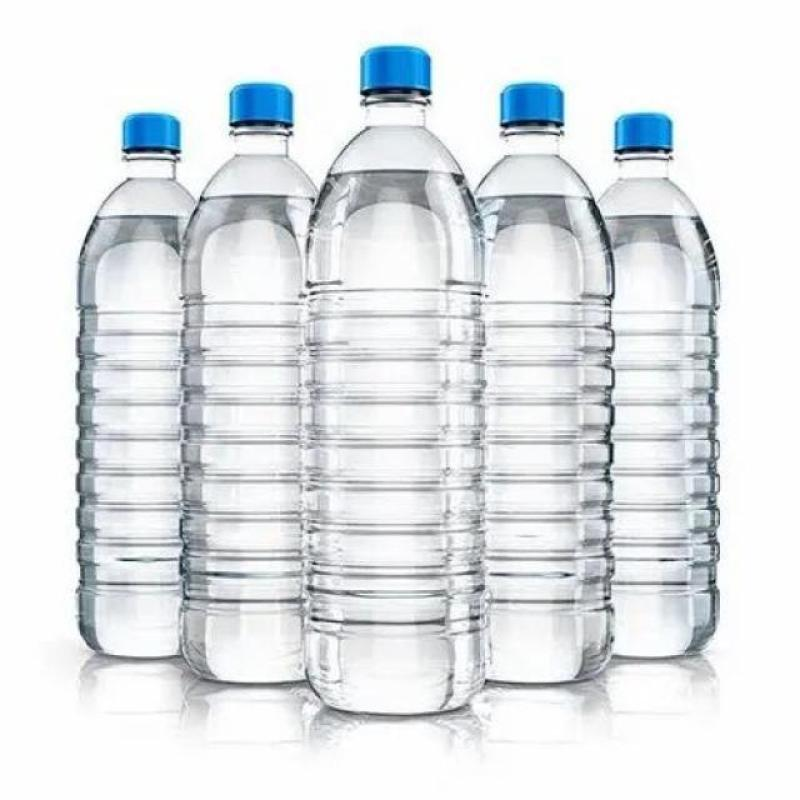botella: (299, 45, 490, 714), (473, 80, 615, 688), (180, 82, 322, 684), (592, 112, 722, 660), (75, 110, 199, 660)
